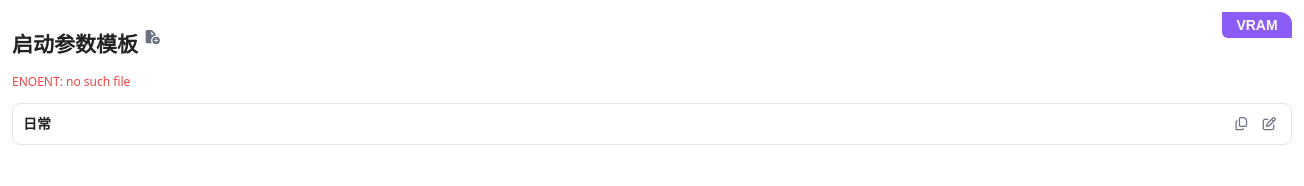
Test: TemplateModule › copy_click_dups_config_after_source_with_copy_name_and_new_id
Click the button named "复制": point(1241, 124) [1229,112,1253,136]
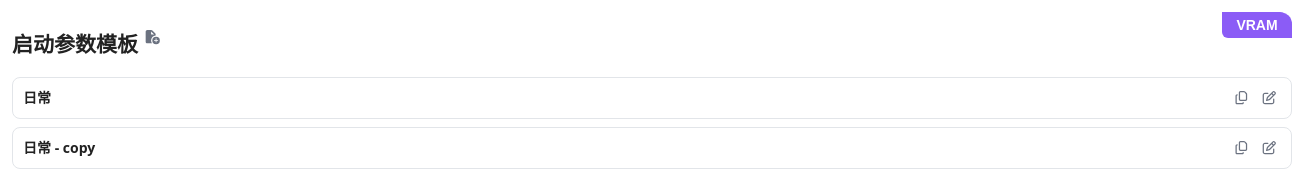
Now the text "日常 - copy" is shown, box [23,138,95,157]
Now the number of elements with class "tpl-row" is 2, box [12,77,1292,119]; [12,127,1292,169]
Now the element with class "tpl-row" reads "日常 - copy", box [23,138,95,157]
